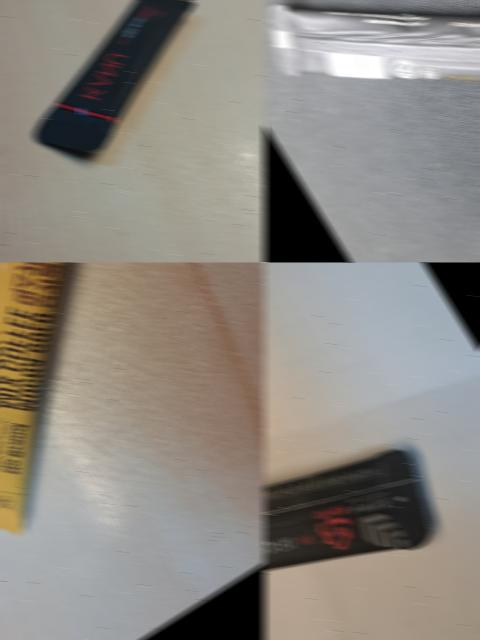KANU: (262, 352, 468, 640), (0, 0, 252, 195)
espresso_mini: (262, 0, 480, 262)
mix_coffee: (0, 262, 265, 577)
